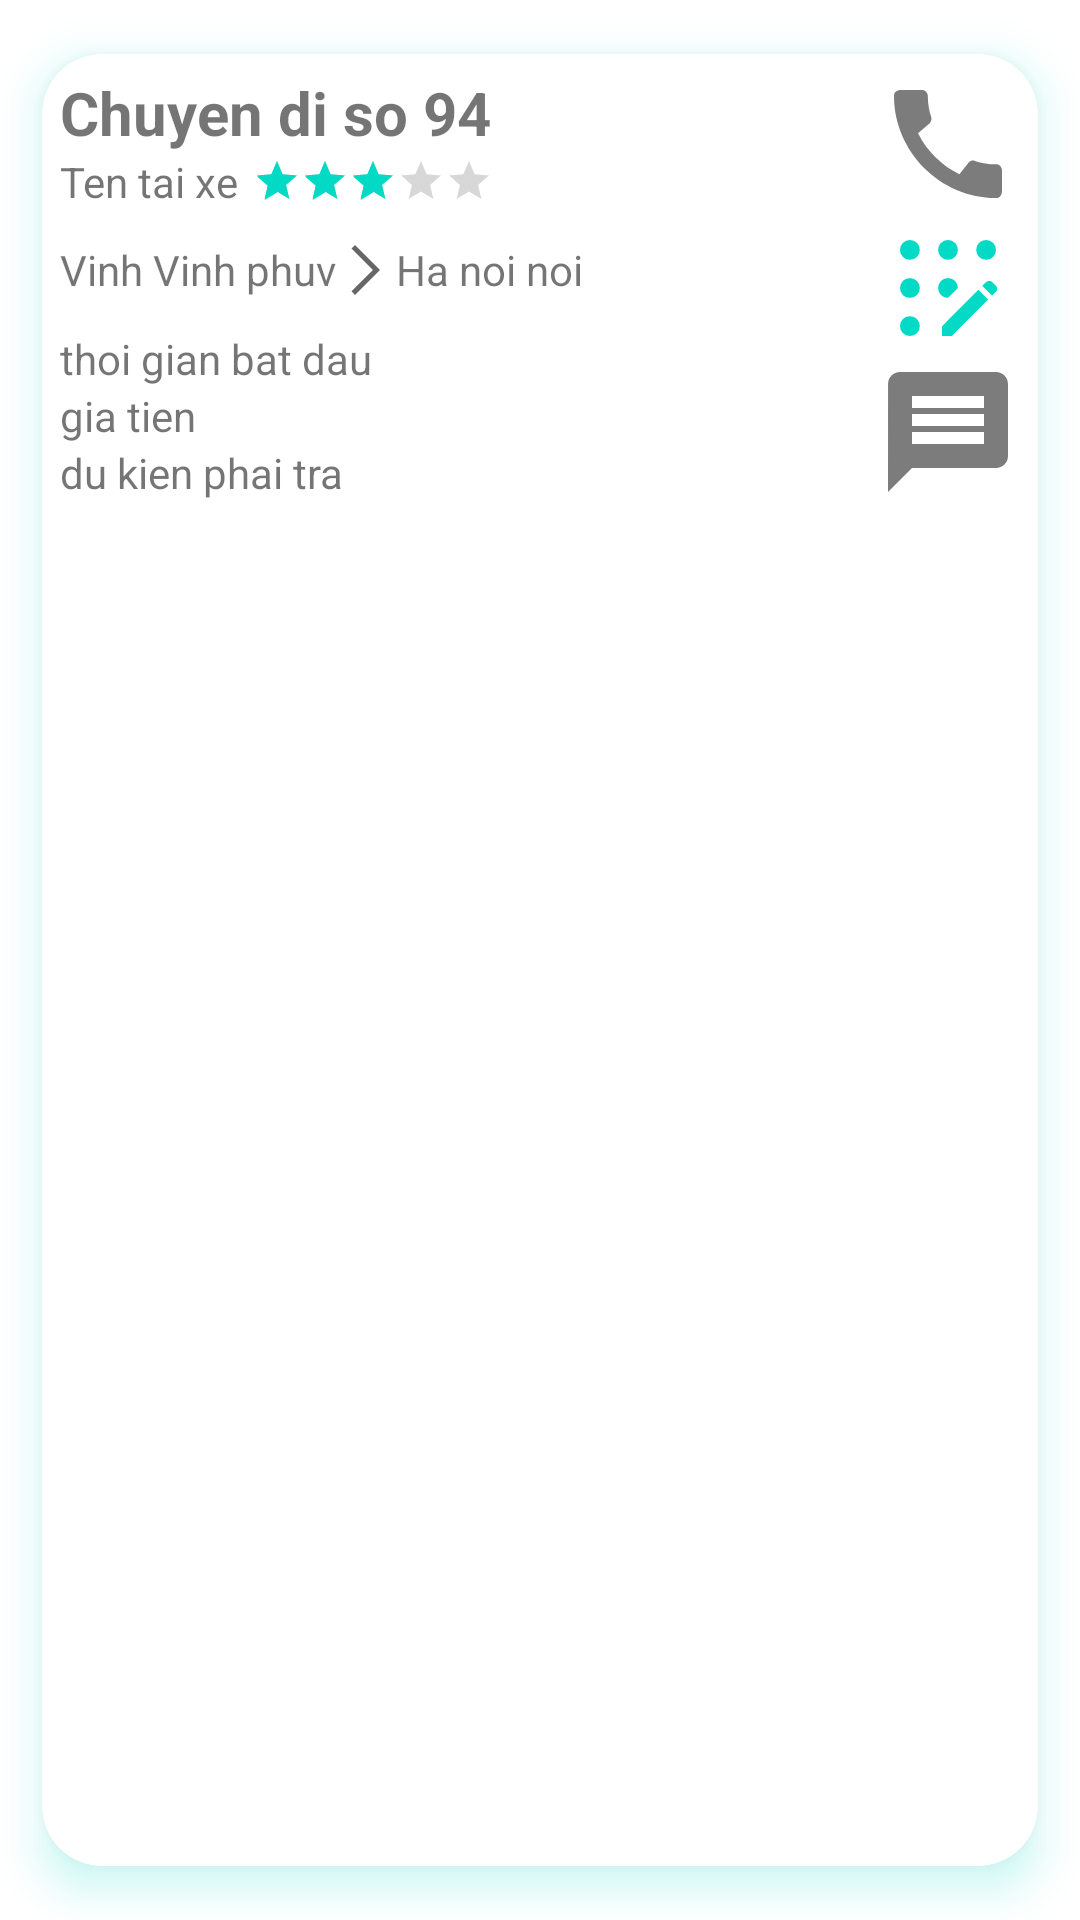

Named icons in this screenshot (1080 × 1920) and their centers, (x,y):
arrow forward: (365,270)
call: (948,144)
message: (948,432)
registration: (948,288)
